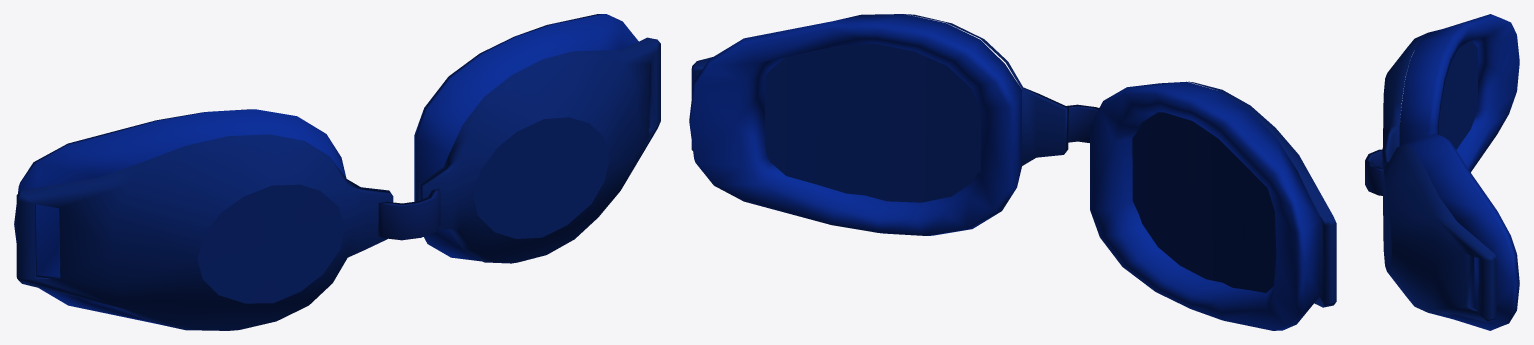
File: AccessoryGlassGoggles1.glb
The picture shows the model from 3 angles, left to right: view 1: azimuth 30°, elevation 25°; view 2: azimuth 150°, elevation 25°; view 3: azimuth 270°, elevation 25°; orthographic projection. The views are drawn at different scales.
Visible parts, largest first — view 1: AccessoryAlpha__mAccessoryAlpha, Accessory__mAccessory; view 2: Accessory__mAccessory, AccessoryAlpha__mAccessoryAlpha; view 3: Accessory__mAccessory, AccessoryAlpha__mAccessoryAlpha.
Part boxes in pixels (x1,y1,x2,y2): AccessoryAlpha__mAccessoryAlpha: (16, 37, 660, 330); Accessory__mAccessory: (14, 14, 638, 330); Accessory__mAccessory: (689, 14, 1320, 330); AccessoryAlpha__mAccessoryAlpha: (691, 14, 1336, 307); Accessory__mAccessory: (1365, 14, 1519, 330); AccessoryAlpha__mAccessoryAlpha: (1382, 33, 1496, 322).
Bounding box in the file's own units: 6.8 × 2.14 × 1.89.
Materials: 2 (2 with a texture image).
